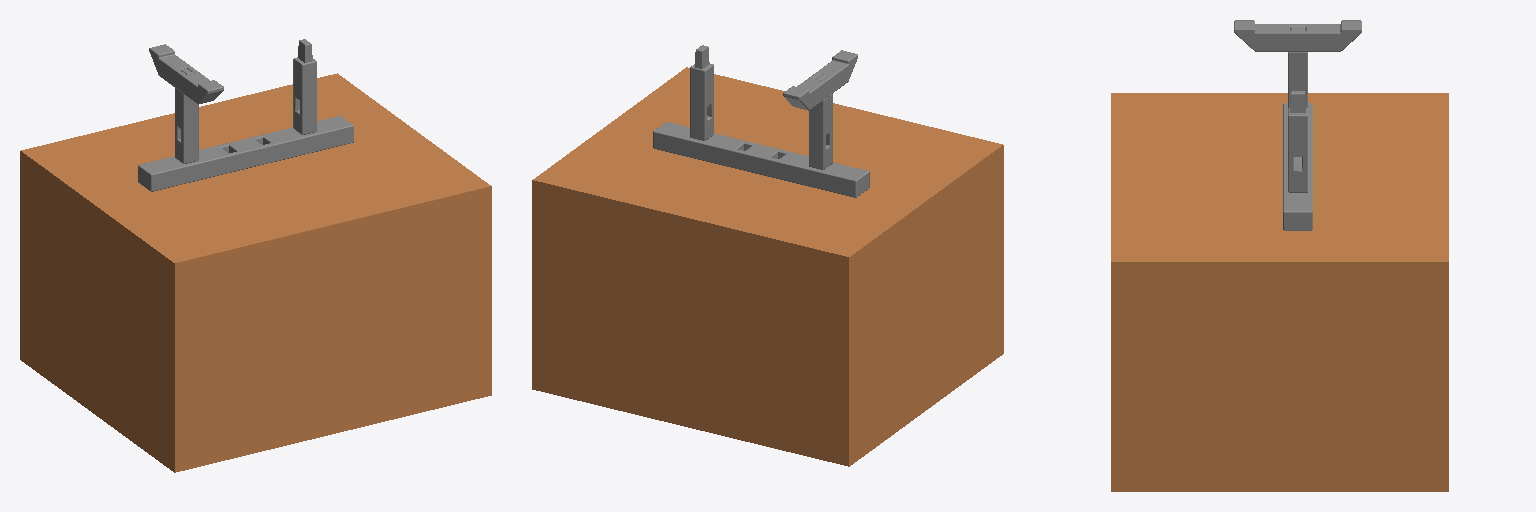
The robot description file, URDF, robot "table_beam_2x_1_scene_0012":
<?xml version="1.0"?>
<robot name="table_beam_2x_1_scene_0012">
  <link name="box">
    <visual>
      <material name="wood"><color rgba="0.82 0.56 0.35 1.0"/></material>
      <origin xyz="0 0 0"/>
      <geometry><box size="0.475 0.4 0.3"/></geometry>
    </visual>
    <collision>
      <origin xyz="0 0 0"/>
      <geometry><box size="0.475 0.4 0.3"/></geometry>
    </collision>
    <inertial>
      <mass value="500"/>
      <friction value="1.0"/>
      <inertia ixx="1000.0" ixy="0.0" ixz="0.0" iyy="1000.0" iyz="0.0" izz="1000.0"/>
    </inertial>
  </link>
  <link name="part_6_canonical">
    <visual>
      <origin xyz="0 0 0" rpy="0 0 0"/>
      <geometry><mesh filename="../../6/6_canonical.obj" scale="1 1 1"/></geometry>
      <material name="placed_0"><color rgba="0.6 0.6 0.6 1.0"/></material>
    </visual>
    <collision>
      <origin xyz="0 0 0" rpy="0 0 0"/>
      <geometry><mesh filename="../../6/6_canonical.obj" scale="1 1 1"/></geometry>
    </collision>
  </link>
  <joint name="part_6_canonical_joint" type="fixed">
    <parent link="box"/>
    <child link="part_6_canonical"/>
    <origin xyz="-0.002539 0.021509 0.162666" rpy="0.000000 0.000000 0.000000"/>
  </joint>
  <link name="part_2_canonical">
    <visual>
      <origin xyz="0 0 0" rpy="0 0 0"/>
      <geometry><mesh filename="../../2/2_canonical.obj" scale="1 1 1"/></geometry>
      <material name="placed_1"><color rgba="0.6 0.6 0.6 1.0"/></material>
    </visual>
    <collision>
      <origin xyz="0 0 0" rpy="0 0 0"/>
      <geometry><mesh filename="../../2/2_canonical.obj" scale="1 1 1"/></geometry>
    </collision>
  </link>
  <joint name="part_2_canonical_joint" type="fixed">
    <parent link="box"/>
    <child link="part_2_canonical"/>
    <origin xyz="-0.091466 0.021509 0.225384" rpy="0.000000 -1.570796 0.000000"/>
  </joint>
  <link name="part_0_canonical">
    <visual>
      <origin xyz="0 0 0" rpy="0 0 0"/>
      <geometry><mesh filename="../../0/0_canonical.obj" scale="1 1 1"/></geometry>
      <material name="placed_2"><color rgba="0.6 0.6 0.6 1.0"/></material>
    </visual>
    <collision>
      <origin xyz="0 0 0" rpy="0 0 0"/>
      <geometry><mesh filename="../../0/0_canonical.obj" scale="1 1 1"/></geometry>
    </collision>
  </link>
  <joint name="part_0_canonical_joint" type="fixed">
    <parent link="box"/>
    <child link="part_0_canonical"/>
    <origin xyz="-0.091439 0.021509 0.292243" rpy="1.570796 0.000000 -1.570796"/>
  </joint>
  <link name="part_3_hull_0">
    <visual>
      <origin xyz="0 0 0" rpy="0 0 0"/>
      <geometry><mesh filename="../../3/coacd/decomp_0.obj" scale="1 1 1"/></geometry>
      <material name="placed_3"><color rgba="0.6 0.6 0.6 1.0"/></material>
    </visual>
    <collision>
      <origin xyz="0 0 0" rpy="0 0 0"/>
      <geometry><mesh filename="../../3/coacd/decomp_0.obj" scale="1 1 1"/></geometry>
    </collision>
  </link>
  <joint name="part_3_hull_0_joint" type="fixed">
    <parent link="box"/>
    <child link="part_3_hull_0"/>
    <origin xyz="0.086388 0.021509 0.225384" rpy="0.000000 -1.570796 0.000000"/>
  </joint>
  <link name="part_3_hull_1">
    <visual>
      <origin xyz="0 0 0" rpy="0 0 0"/>
      <geometry><mesh filename="../../3/coacd/decomp_1.obj" scale="1 1 1"/></geometry>
      <material name="placed_4"><color rgba="0.6 0.6 0.6 1.0"/></material>
    </visual>
    <collision>
      <origin xyz="0 0 0" rpy="0 0 0"/>
      <geometry><mesh filename="../../3/coacd/decomp_1.obj" scale="1 1 1"/></geometry>
    </collision>
  </link>
  <joint name="part_3_hull_1_joint" type="fixed">
    <parent link="box"/>
    <child link="part_3_hull_1"/>
    <origin xyz="0.086388 0.021509 0.225384" rpy="0.000000 -1.570796 0.000000"/>
  </joint>
  <link name="part_3_hull_2">
    <visual>
      <origin xyz="0 0 0" rpy="0 0 0"/>
      <geometry><mesh filename="../../3/coacd/decomp_10.obj" scale="1 1 1"/></geometry>
      <material name="placed_5"><color rgba="0.6 0.6 0.6 1.0"/></material>
    </visual>
    <collision>
      <origin xyz="0 0 0" rpy="0 0 0"/>
      <geometry><mesh filename="../../3/coacd/decomp_10.obj" scale="1 1 1"/></geometry>
    </collision>
  </link>
  <joint name="part_3_hull_2_joint" type="fixed">
    <parent link="box"/>
    <child link="part_3_hull_2"/>
    <origin xyz="0.086388 0.021509 0.225384" rpy="0.000000 -1.570796 0.000000"/>
  </joint>
  <link name="part_3_hull_3">
    <visual>
      <origin xyz="0 0 0" rpy="0 0 0"/>
      <geometry><mesh filename="../../3/coacd/decomp_11.obj" scale="1 1 1"/></geometry>
      <material name="placed_6"><color rgba="0.6 0.6 0.6 1.0"/></material>
    </visual>
    <collision>
      <origin xyz="0 0 0" rpy="0 0 0"/>
      <geometry><mesh filename="../../3/coacd/decomp_11.obj" scale="1 1 1"/></geometry>
    </collision>
  </link>
  <joint name="part_3_hull_3_joint" type="fixed">
    <parent link="box"/>
    <child link="part_3_hull_3"/>
    <origin xyz="0.086388 0.021509 0.225384" rpy="0.000000 -1.570796 0.000000"/>
  </joint>
  <link name="part_3_hull_4">
    <visual>
      <origin xyz="0 0 0" rpy="0 0 0"/>
      <geometry><mesh filename="../../3/coacd/decomp_12.obj" scale="1 1 1"/></geometry>
      <material name="placed_7"><color rgba="0.6 0.6 0.6 1.0"/></material>
    </visual>
    <collision>
      <origin xyz="0 0 0" rpy="0 0 0"/>
      <geometry><mesh filename="../../3/coacd/decomp_12.obj" scale="1 1 1"/></geometry>
    </collision>
  </link>
  <joint name="part_3_hull_4_joint" type="fixed">
    <parent link="box"/>
    <child link="part_3_hull_4"/>
    <origin xyz="0.086388 0.021509 0.225384" rpy="0.000000 -1.570796 0.000000"/>
  </joint>
  <link name="part_3_hull_5">
    <visual>
      <origin xyz="0 0 0" rpy="0 0 0"/>
      <geometry><mesh filename="../../3/coacd/decomp_2.obj" scale="1 1 1"/></geometry>
      <material name="placed_8"><color rgba="0.6 0.6 0.6 1.0"/></material>
    </visual>
    <collision>
      <origin xyz="0 0 0" rpy="0 0 0"/>
      <geometry><mesh filename="../../3/coacd/decomp_2.obj" scale="1 1 1"/></geometry>
    </collision>
  </link>
  <joint name="part_3_hull_5_joint" type="fixed">
    <parent link="box"/>
    <child link="part_3_hull_5"/>
    <origin xyz="0.086388 0.021509 0.225384" rpy="0.000000 -1.570796 0.000000"/>
  </joint>
  <link name="part_3_hull_6">
    <visual>
      <origin xyz="0 0 0" rpy="0 0 0"/>
      <geometry><mesh filename="../../3/coacd/decomp_3.obj" scale="1 1 1"/></geometry>
      <material name="placed_9"><color rgba="0.6 0.6 0.6 1.0"/></material>
    </visual>
    <collision>
      <origin xyz="0 0 0" rpy="0 0 0"/>
      <geometry><mesh filename="../../3/coacd/decomp_3.obj" scale="1 1 1"/></geometry>
    </collision>
  </link>
  <joint name="part_3_hull_6_joint" type="fixed">
    <parent link="box"/>
    <child link="part_3_hull_6"/>
    <origin xyz="0.086388 0.021509 0.225384" rpy="0.000000 -1.570796 0.000000"/>
  </joint>
  <link name="part_3_hull_7">
    <visual>
      <origin xyz="0 0 0" rpy="0 0 0"/>
      <geometry><mesh filename="../../3/coacd/decomp_4.obj" scale="1 1 1"/></geometry>
      <material name="placed_10"><color rgba="0.6 0.6 0.6 1.0"/></material>
    </visual>
    <collision>
      <origin xyz="0 0 0" rpy="0 0 0"/>
      <geometry><mesh filename="../../3/coacd/decomp_4.obj" scale="1 1 1"/></geometry>
    </collision>
  </link>
  <joint name="part_3_hull_7_joint" type="fixed">
    <parent link="box"/>
    <child link="part_3_hull_7"/>
    <origin xyz="0.086388 0.021509 0.225384" rpy="0.000000 -1.570796 0.000000"/>
  </joint>
  <link name="part_3_hull_8">
    <visual>
      <origin xyz="0 0 0" rpy="0 0 0"/>
      <geometry><mesh filename="../../3/coacd/decomp_5.obj" scale="1 1 1"/></geometry>
      <material name="placed_11"><color rgba="0.6 0.6 0.6 1.0"/></material>
    </visual>
    <collision>
      <origin xyz="0 0 0" rpy="0 0 0"/>
      <geometry><mesh filename="../../3/coacd/decomp_5.obj" scale="1 1 1"/></geometry>
    </collision>
  </link>
  <joint name="part_3_hull_8_joint" type="fixed">
    <parent link="box"/>
    <child link="part_3_hull_8"/>
    <origin xyz="0.086388 0.021509 0.225384" rpy="0.000000 -1.570796 0.000000"/>
  </joint>
  <link name="part_3_hull_9">
    <visual>
      <origin xyz="0 0 0" rpy="0 0 0"/>
      <geometry><mesh filename="../../3/coacd/decomp_6.obj" scale="1 1 1"/></geometry>
      <material name="placed_12"><color rgba="0.6 0.6 0.6 1.0"/></material>
    </visual>
    <collision>
      <origin xyz="0 0 0" rpy="0 0 0"/>
      <geometry><mesh filename="../../3/coacd/decomp_6.obj" scale="1 1 1"/></geometry>
    </collision>
  </link>
  <joint name="part_3_hull_9_joint" type="fixed">
    <parent link="box"/>
    <child link="part_3_hull_9"/>
    <origin xyz="0.086388 0.021509 0.225384" rpy="0.000000 -1.570796 0.000000"/>
  </joint>
  <link name="part_3_hull_10">
    <visual>
      <origin xyz="0 0 0" rpy="0 0 0"/>
      <geometry><mesh filename="../../3/coacd/decomp_7.obj" scale="1 1 1"/></geometry>
      <material name="placed_13"><color rgba="0.6 0.6 0.6 1.0"/></material>
    </visual>
    <collision>
      <origin xyz="0 0 0" rpy="0 0 0"/>
      <geometry><mesh filename="../../3/coacd/decomp_7.obj" scale="1 1 1"/></geometry>
    </collision>
  </link>
  <joint name="part_3_hull_10_joint" type="fixed">
    <parent link="box"/>
    <child link="part_3_hull_10"/>
    <origin xyz="0.086388 0.021509 0.225384" rpy="0.000000 -1.570796 0.000000"/>
  </joint>
  <link name="part_3_hull_11">
    <visual>
      <origin xyz="0 0 0" rpy="0 0 0"/>
      <geometry><mesh filename="../../3/coacd/decomp_8.obj" scale="1 1 1"/></geometry>
      <material name="placed_14"><color rgba="0.6 0.6 0.6 1.0"/></material>
    </visual>
    <collision>
      <origin xyz="0 0 0" rpy="0 0 0"/>
      <geometry><mesh filename="../../3/coacd/decomp_8.obj" scale="1 1 1"/></geometry>
    </collision>
  </link>
  <joint name="part_3_hull_11_joint" type="fixed">
    <parent link="box"/>
    <child link="part_3_hull_11"/>
    <origin xyz="0.086388 0.021509 0.225384" rpy="0.000000 -1.570796 0.000000"/>
  </joint>
  <link name="part_3_hull_12">
    <visual>
      <origin xyz="0 0 0" rpy="0 0 0"/>
      <geometry><mesh filename="../../3/coacd/decomp_9.obj" scale="1 1 1"/></geometry>
      <material name="placed_15"><color rgba="0.6 0.6 0.6 1.0"/></material>
    </visual>
    <collision>
      <origin xyz="0 0 0" rpy="0 0 0"/>
      <geometry><mesh filename="../../3/coacd/decomp_9.obj" scale="1 1 1"/></geometry>
    </collision>
  </link>
  <joint name="part_3_hull_12_joint" type="fixed">
    <parent link="box"/>
    <child link="part_3_hull_12"/>
    <origin xyz="0.086388 0.021509 0.225384" rpy="0.000000 -1.570796 0.000000"/>
  </joint>
</robot>

--- Render facts (derived) ---
3 views of the same robot in one strip: view 1: azimuth 30°, elevation 25°; view 2: azimuth 150°, elevation 25°; view 3: azimuth 270°, elevation 25° (orthographic).
Model table_beam_2x_1_scene_0012 with 17 links and 16 joints (16 fixed), rooted at box, posed every joint at zero.
Visible links, largest first — view 1: box, part_6_canonical, part_0_canonical, part_2_canonical, part_3_hull_7; view 2: box, part_6_canonical, part_0_canonical, part_2_canonical; view 3: box, part_0_canonical, part_6_canonical, part_2_canonical, part_3_hull_0.
Boxes of the visible links, box(x1,y1,x2,y2) form: box: box(20, 73, 491, 472); part_6_canonical: box(138, 116, 353, 191); part_0_canonical: box(149, 44, 223, 104); part_2_canonical: box(175, 68, 198, 163); part_3_hull_7: box(306, 61, 313, 133); box: box(532, 67, 1003, 466); part_6_canonical: box(653, 122, 869, 197); part_0_canonical: box(783, 50, 857, 110); part_2_canonical: box(809, 74, 832, 169); box: box(1111, 93, 1448, 491); part_0_canonical: box(1234, 20, 1361, 51); part_6_canonical: box(1283, 103, 1312, 230); part_2_canonical: box(1288, 27, 1307, 107); part_3_hull_0: box(1288, 113, 1307, 156).
Size in the robot's own frame: 0.475 by 0.4 by 0.4575 metres.
16 mesh visuals loaded from 16 distinct referenced files (16 OBJ).
